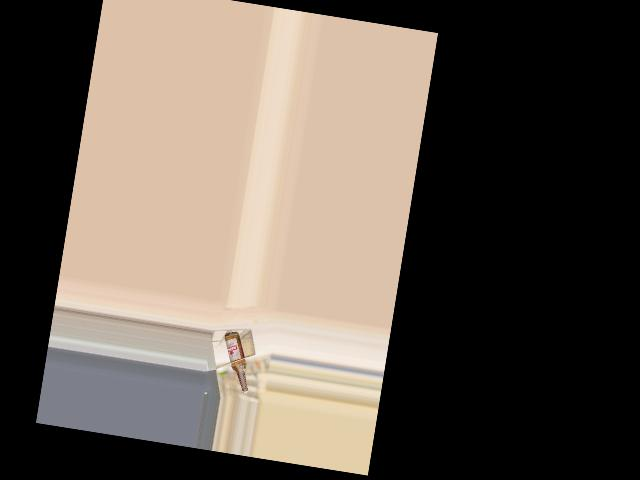beer: (215, 329, 257, 394)
